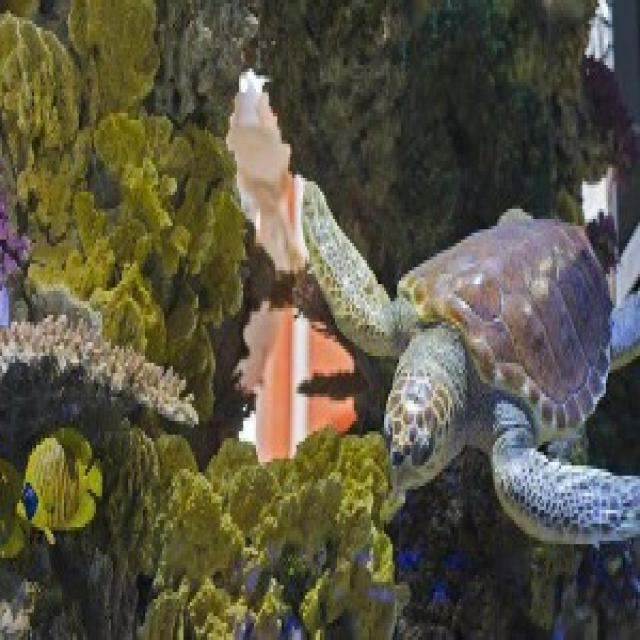Sea turtle: (290, 158, 640, 586)
